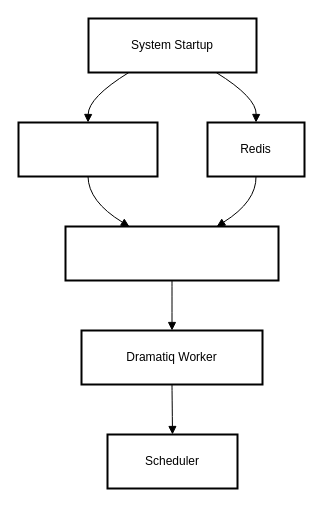
The diagram is 322 pixels wide and 506 high, and some of its shapes have lost their labels. The shapes that lost their labels are listed below. From the top down, each one's box as (x1, y1, x2, y2) in pixels, then its label:
(17, 121, 158, 177): PostgreSQL
(64, 225, 279, 281): Stations Initialization
